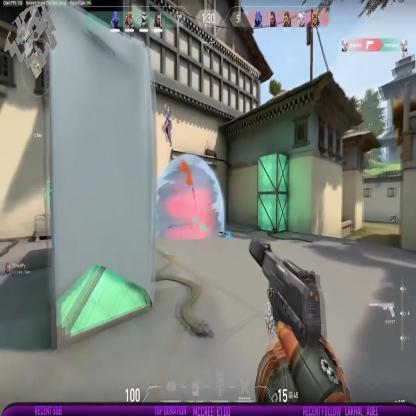enemy: (162, 103, 173, 150)
enemy_head: (164, 103, 167, 111)
